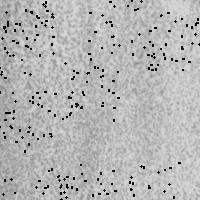pitted_surface: (1, 1, 200, 199), (88, 0, 147, 58), (0, 91, 54, 150), (62, 62, 117, 119), (148, 12, 200, 69), (0, 0, 52, 54), (38, 164, 98, 200), (127, 162, 183, 200), (0, 23, 34, 82), (58, 170, 115, 200), (0, 171, 39, 200)
